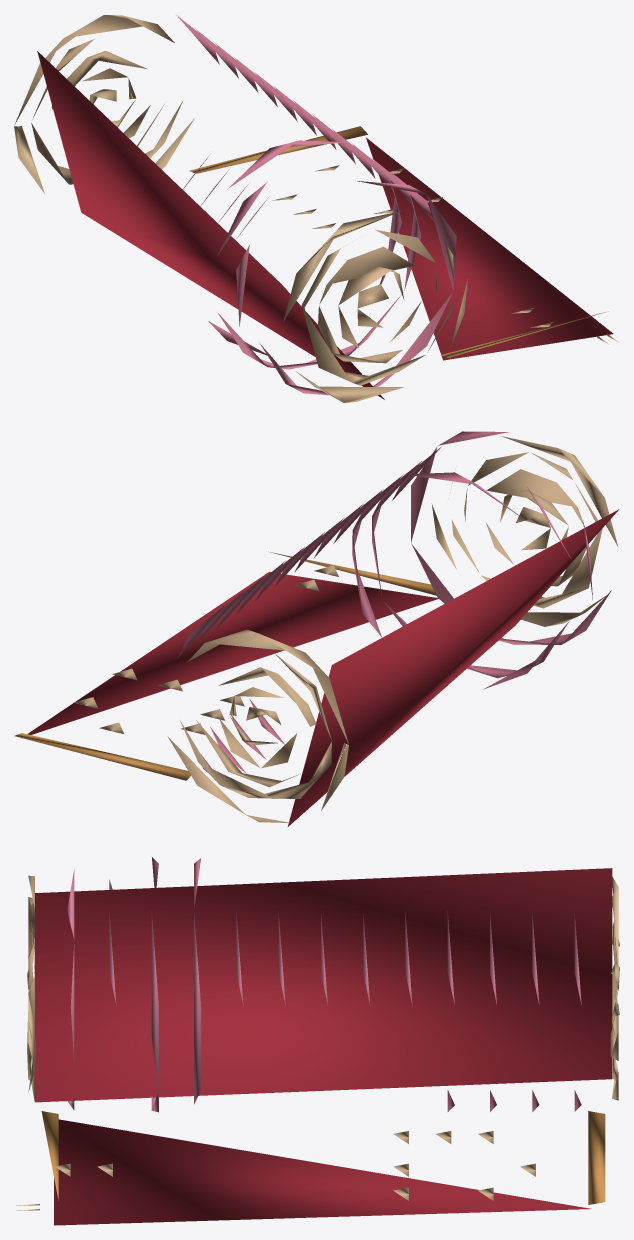
File: prop.carpet.lod2.glb
3 renders of one model, top to bottom at view 1: azimuth 30°, elevation 25°; view 2: azimuth 150°, elevation 25°; view 3: azimuth 270°, elevation 25°, orthographic. The views are drawn at different scales.
Bounding box in the file's own units: 0.8535 × 0.4982 × 1.18.
